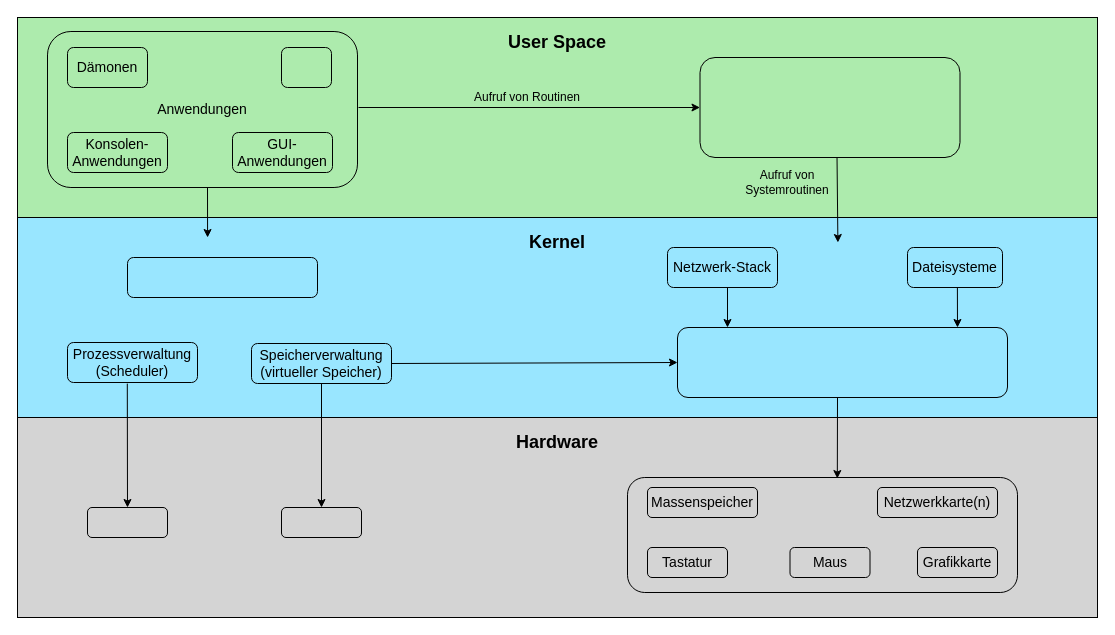
Some shapes in this 1115 by 635 pixel diagram are drawn without their labels. The centre of each missing label's shape, as x and y in pixels:
CPU(s): [127,522]
Gerätetreiber: [842,362]
Interprozesskommunikation (z. B. Pipes): [222,277]
Programmbibliotheken (gemeinsam genutzter Code): [829,107]
RAM: [321,522]
Shells: [306,67]
